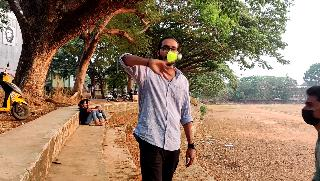shuttlecock: (167, 51, 181, 61)
